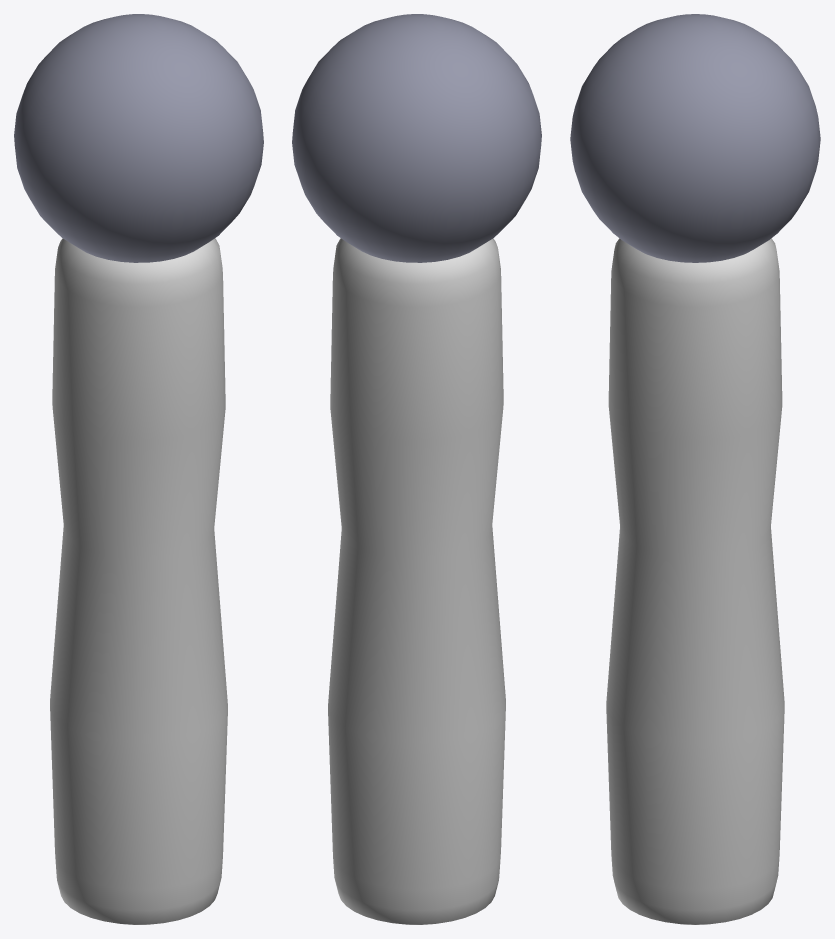
The model's file is handPivit.fbx.
3 views of the same model, side by side, from view 1: azimuth 30°, elevation 25°; view 2: azimuth 150°, elevation 25°; view 3: azimuth 270°, elevation 25° (orthographic).
Visible parts, largest first — view 1: Cylinder, Sphere; view 2: Cylinder, Sphere; view 3: Cylinder, Sphere.
Part boxes in pixels (box(x1,y1,x2,y2)): Cylinder: box(50, 238, 227, 924); Sphere: box(14, 14, 263, 262); Cylinder: box(328, 238, 505, 924); Sphere: box(292, 14, 541, 262); Cylinder: box(606, 238, 784, 924); Sphere: box(570, 14, 820, 262).
Bounding box in the file's own units: 12.74 × 48.9 × 12.74.
